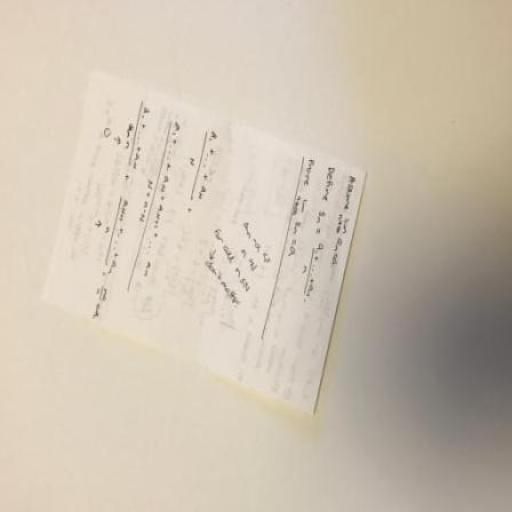paper: (54, 24, 387, 451)
